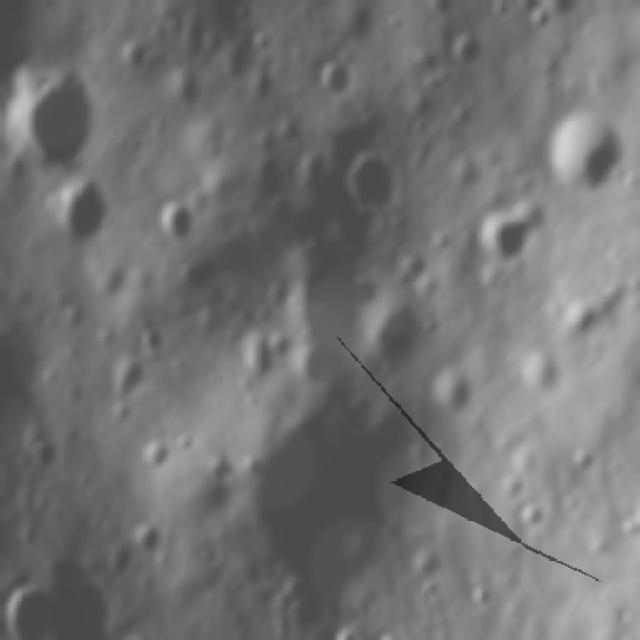crater: (7, 73, 84, 175), (549, 102, 609, 185), (338, 148, 397, 229), (56, 182, 112, 252), (477, 202, 535, 263), (364, 294, 413, 366), (0, 586, 60, 640), (150, 198, 193, 260), (238, 329, 272, 382), (312, 56, 348, 106), (110, 348, 142, 404), (439, 374, 479, 414), (135, 518, 170, 554), (142, 431, 168, 477), (451, 29, 484, 65), (116, 627, 157, 640), (368, 629, 410, 640), (331, 626, 358, 640)
